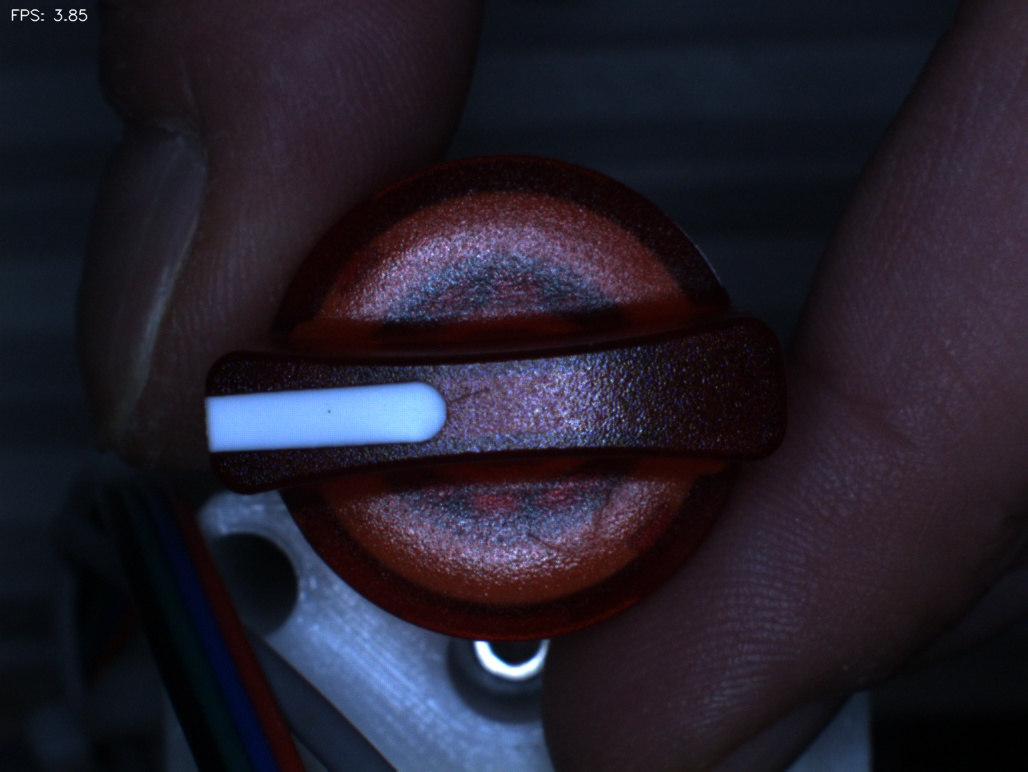PointNoir: (281, 389, 370, 448)
